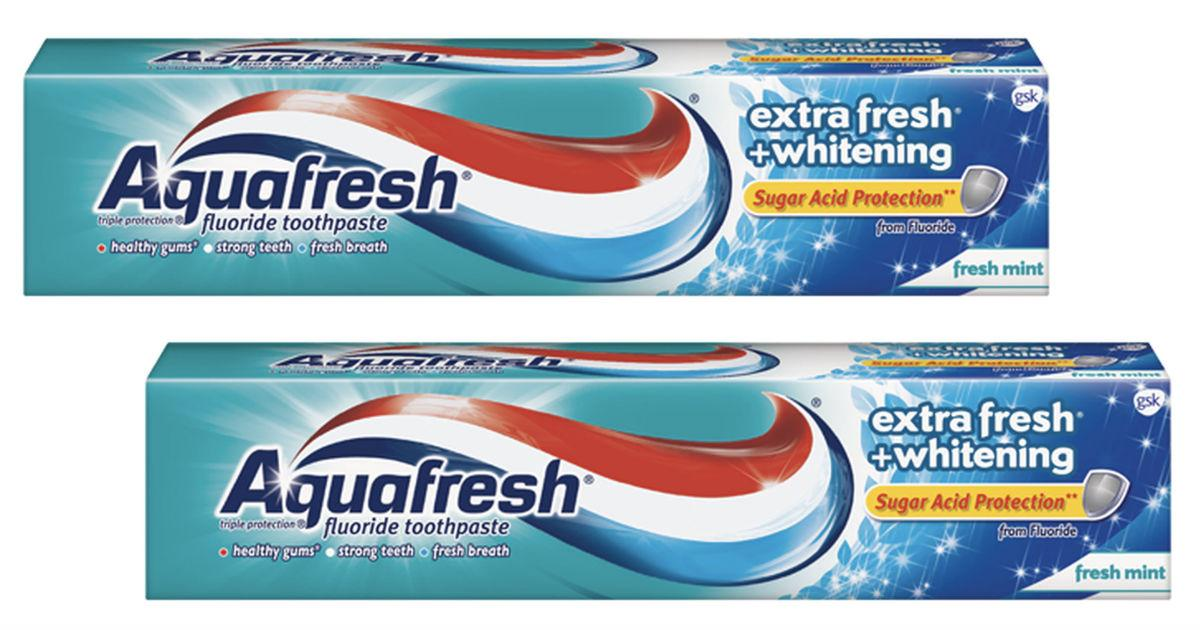toothpaste: (13, 27, 1057, 298), (139, 336, 1177, 608)
